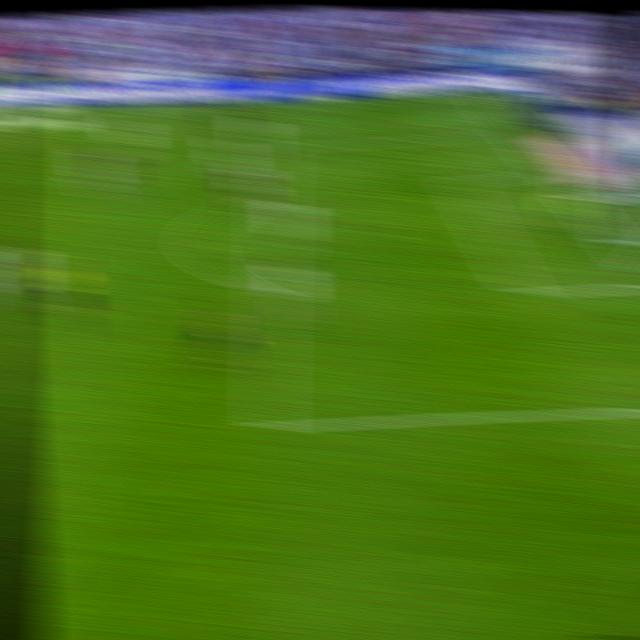bigarea_bottom_inner: (507, 277, 541, 306)
bigarea_top_inner: (448, 175, 475, 190)
bigarea_top_outter: (502, 125, 531, 139)
corner: (467, 90, 497, 102)
smallarea_top_outter: (538, 164, 568, 184)
